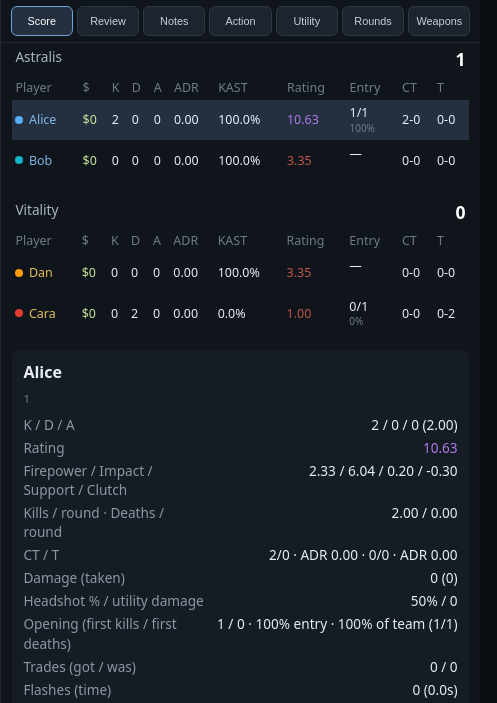
Scenario: Sidebar › omits headshot percent for grenades
Click the button "Weapons".
click(439, 21)  # box top-left (408, 6), bottom-right (470, 36)
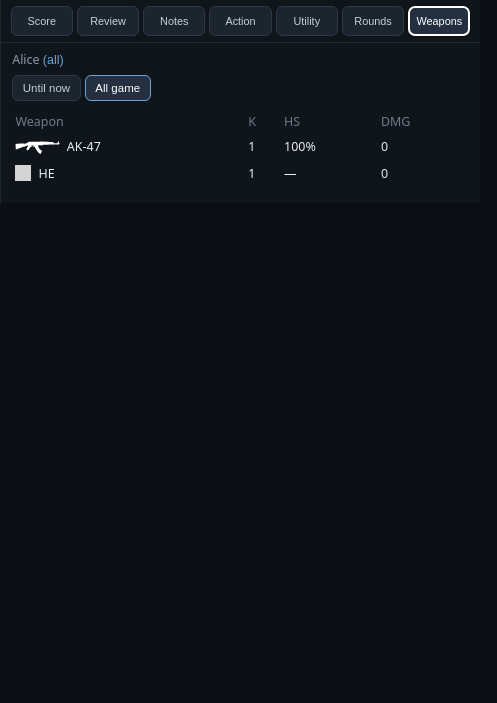
Check: the text "HE" does not show "%", box top-left (12, 160), bottom-right (469, 187)
Check: the text "AK-47" shows "100%", box top-left (284, 138), bottom-right (316, 155)
